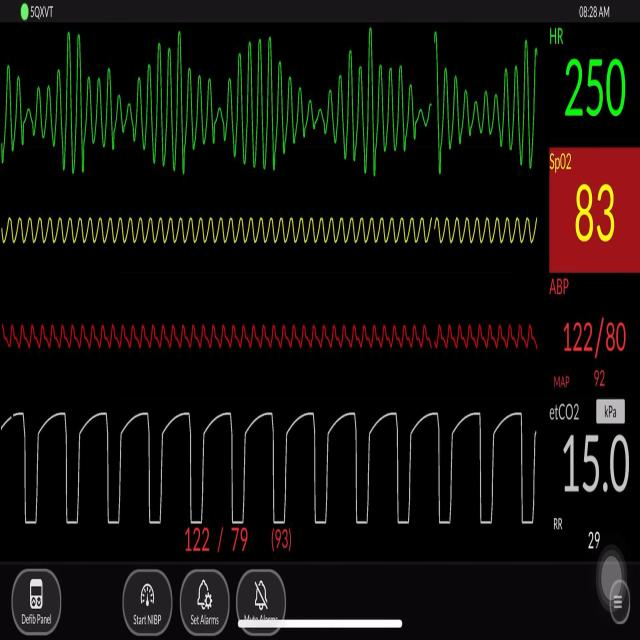danger: (7, 36, 545, 175)
